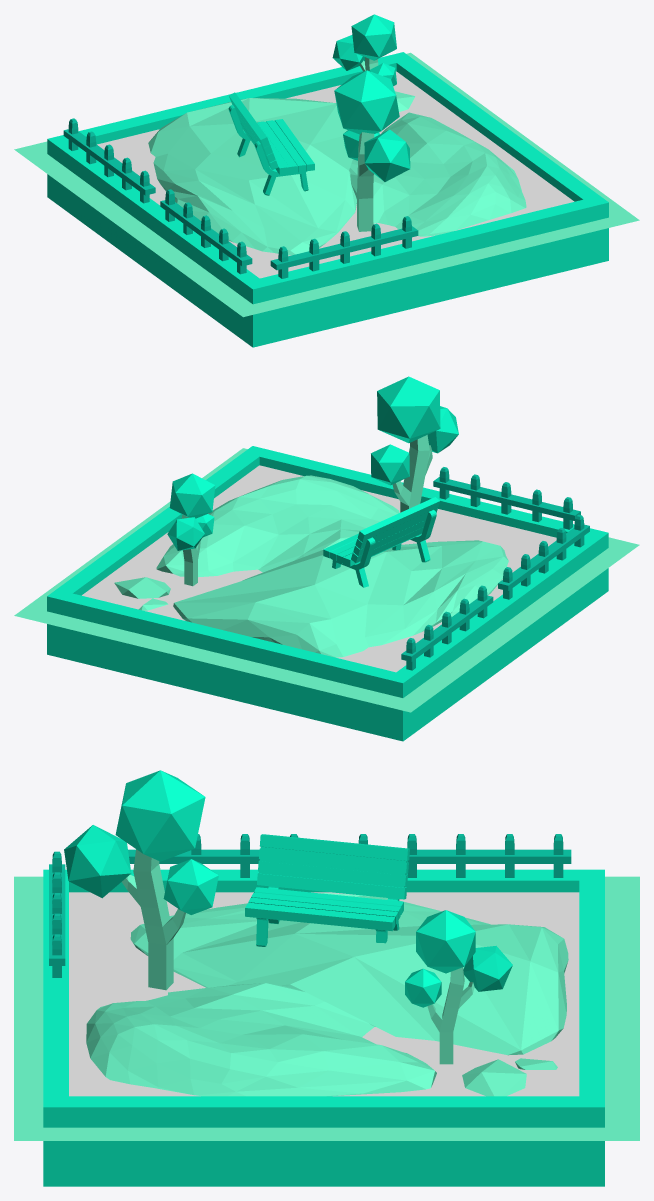
Rendered from Park_green.fbx.
3 renders of one model, top to bottom at view 1: azimuth 30°, elevation 25°; view 2: azimuth 150°, elevation 25°; view 3: azimuth 270°, elevation 25°, orthographic. The views are drawn at different scales.
Parts seen in each view (by area): view 1: Plane.001, Icosphere, Icosphere.001, Plane, Icosphere.007, Cube.023, Icosphere.005, Cube.021, Cube.024, Cube.022; view 2: Plane.001, Icosphere, Icosphere.001, Plane, Icosphere.007, Cube.023, Icosphere.005, Cube.021, Cube.022, Cube.024, Icosphere.006; view 3: Plane.001, Icosphere, Icosphere.001, Plane, Icosphere.007, Cube.023, Icosphere.005, Cube.024, Cube.021, Icosphere.006, Cube.022.
Part boxes in pixels (x1,y1,x2,y2): Plane.001: [47, 52, 608, 347]; Icosphere: [148, 98, 356, 255]; Icosphere.001: [349, 112, 526, 236]; Plane: [14, 52, 639, 317]; Icosphere.007: [334, 70, 410, 231]; Cube.023: [228, 92, 314, 195]; Icosphere.005: [332, 14, 396, 85]; Cube.021: [270, 216, 418, 278]; Cube.024: [63, 118, 155, 203]; Cube.022: [160, 189, 252, 274]; Plane.001: [47, 446, 608, 741]; Icosphere: [173, 540, 508, 657]; Icosphere.001: [156, 475, 399, 577]; Plane: [14, 448, 639, 712]; Icosphere.007: [371, 376, 458, 512]; Cube.023: [323, 497, 439, 587]; Icosphere.005: [167, 473, 215, 586]; Cube.021: [433, 467, 580, 529]; Cube.022: [498, 514, 589, 599]; Cube.024: [401, 585, 493, 670]; Icosphere.006: [114, 577, 170, 598]; Plane.001: [43, 869, 604, 1186]; Icosphere: [130, 893, 568, 1055]; Icosphere.001: [86, 983, 436, 1096]; Plane: [14, 876, 639, 1140]; Icosphere.007: [64, 770, 218, 990]; Cube.023: [245, 834, 409, 946]; Icosphere.005: [405, 910, 512, 1064]; Cube.024: [358, 834, 571, 877]; Cube.021: [49, 851, 65, 977]; Icosphere.006: [462, 1059, 526, 1096]; Cube.022: [128, 834, 298, 877].
Size of the model in its own units: 1000 by 500 by 1000.
